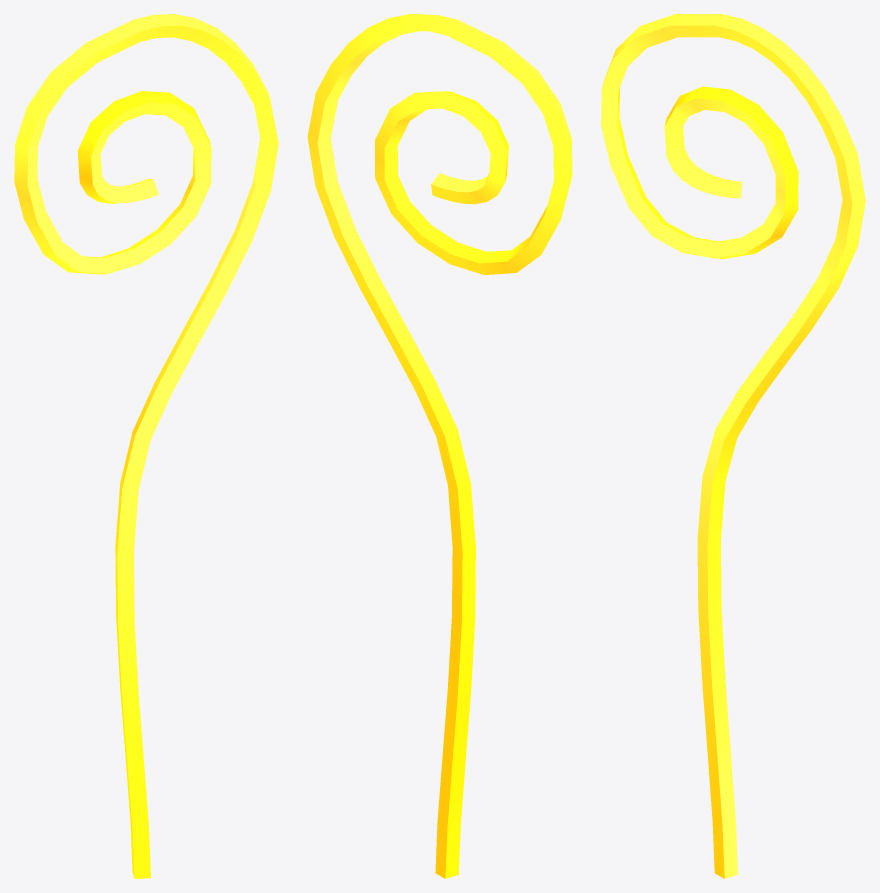
The model's file is lightweed3.fbx.
3 renders of one model, left to right at view 1: azimuth 30°, elevation 25°; view 2: azimuth 150°, elevation 25°; view 3: azimuth 330°, elevation 25°, orthographic.
Visible parts, largest first — view 1: BezierCurve.frozen; view 2: BezierCurve.frozen; view 3: BezierCurve.frozen.
Part boxes in pixels (x1,y1,x2,y2): BezierCurve.frozen: [14, 14, 278, 878]; BezierCurve.frozen: [307, 14, 572, 878]; BezierCurve.frozen: [601, 14, 865, 878].
Bounding box in the file's own units: 77.17 × 240 × 5.57.
1 material, 1 textured.
